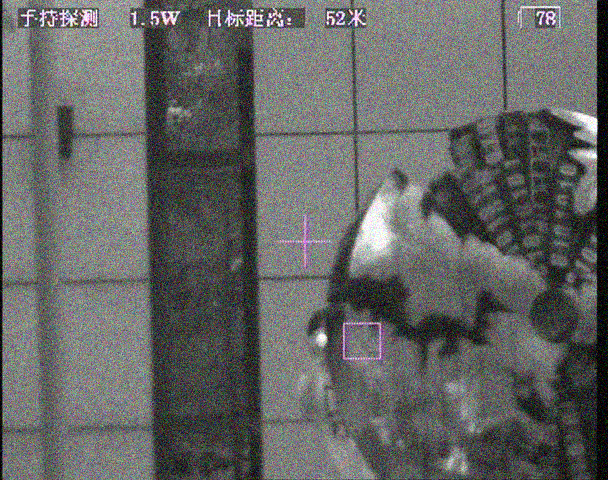my: (315, 331, 329, 348)
